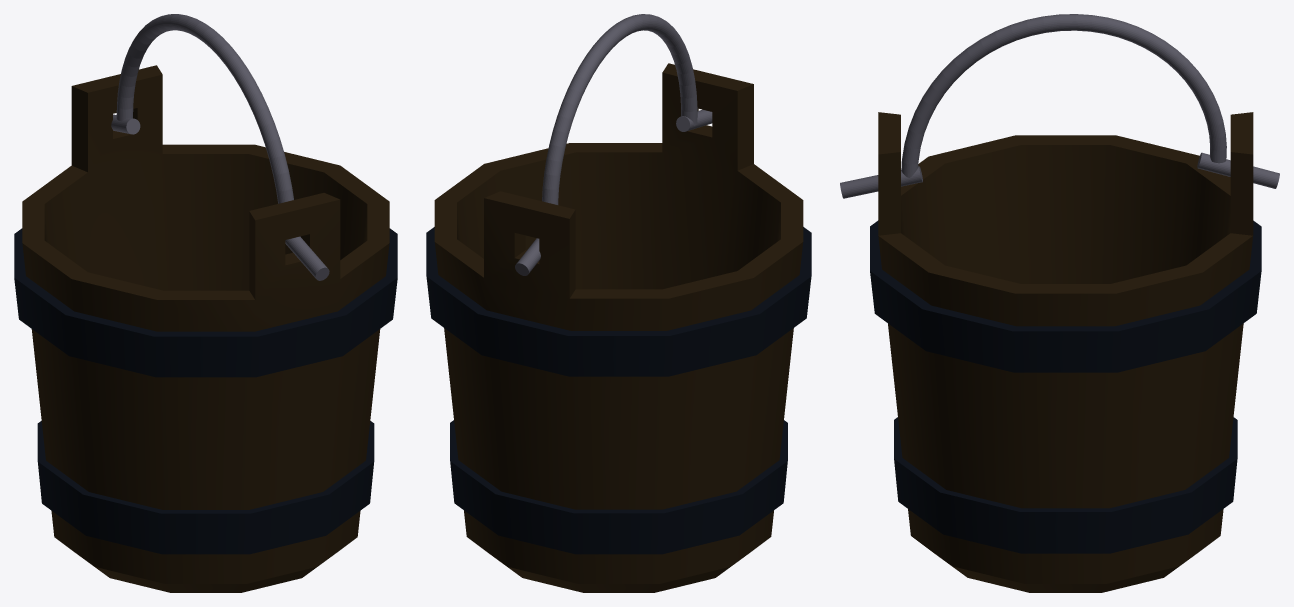
Rendered from bucket_fixed.fbx.
3 renders of one model, left to right at view 1: azimuth 30°, elevation 25°; view 2: azimuth 150°, elevation 25°; view 3: azimuth 270°, elevation 25°, orthographic. The views are drawn at different scales.
Visible parts, largest first — view 1: Bucket, Cylinder, Cylinder.001; view 2: Bucket, Cylinder, Cylinder.002; view 3: Bucket, Cylinder, Cylinder.002, Cylinder.001.
Boxes of the visible parts, left/top/right/bottom form: Bucket: left=14, top=65, right=397, bottom=592; Cylinder: left=116, top=14, right=293, bottom=203; Cylinder.001: left=285, top=236, right=329, bottom=280; Bucket: left=426, top=63, right=811, bottom=592; Cylinder: left=542, top=14, right=697, bottom=204; Cylinder.002: left=515, top=238, right=540, bottom=275; Bucket: left=870, top=112, right=1261, bottom=592; Cylinder: left=901, top=14, right=1226, bottom=177; Cylinder.002: left=1197, top=152, right=1279, bottom=188; Cylinder.001: left=840, top=166, right=922, bottom=198.
Bounding box in the file's own units: 48.09 × 70.65 × 54.01.
